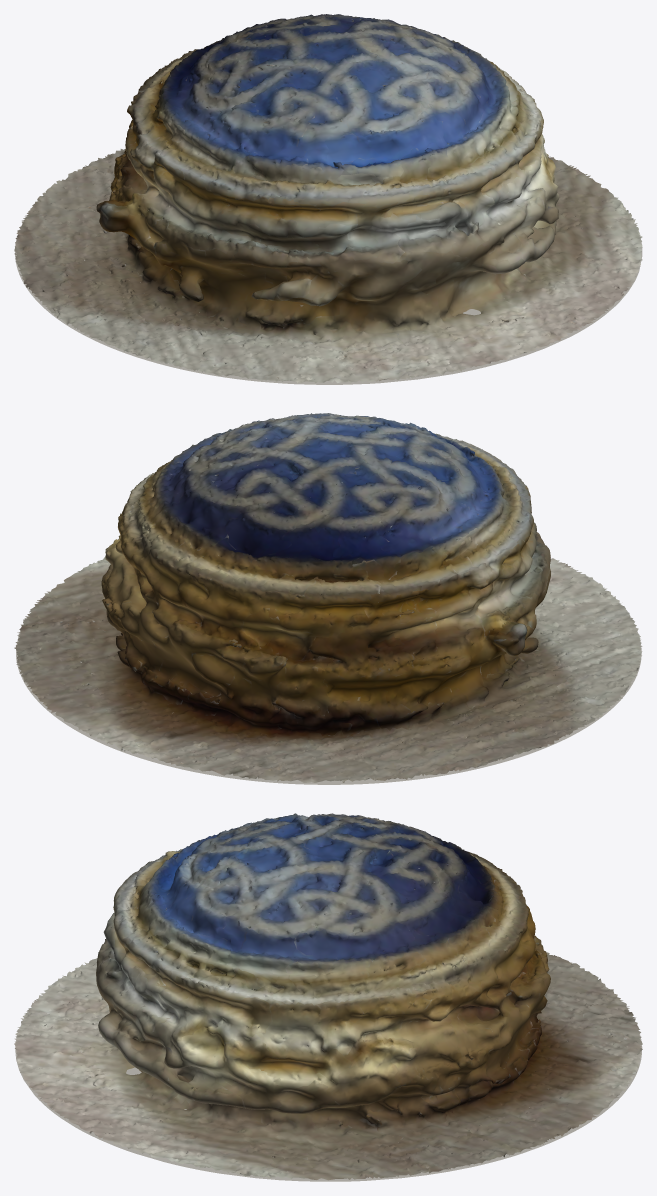
Rendered from joyero.glb.
3 views of the same model, one above another, from view 1: azimuth 30°, elevation 25°; view 2: azimuth 150°, elevation 25°; view 3: azimuth 270°, elevation 25° (orthographic).
Visible parts, largest first — view 1: objeto, base_rellenada; view 2: objeto, base_rellenada; view 3: objeto, base_rellenada.
Boxes of the visible parts, <box> form: objeto: <box>14,14,642,383</box>; base_rellenada: <box>15,187,642,384</box>; objeto: <box>14,413,642,782</box>; base_rellenada: <box>16,582,641,784</box>; objeto: <box>14,813,642,1180</box>; base_rellenada: <box>15,992,641,1181</box>.
Bounding box in the file's own units: 0.0591 × 0.0213 × 0.059.
Materials: 2 (1 with a texture image).
